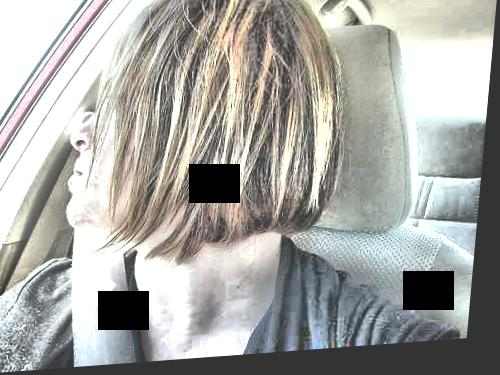seatbelt: (54, 196, 160, 357)
